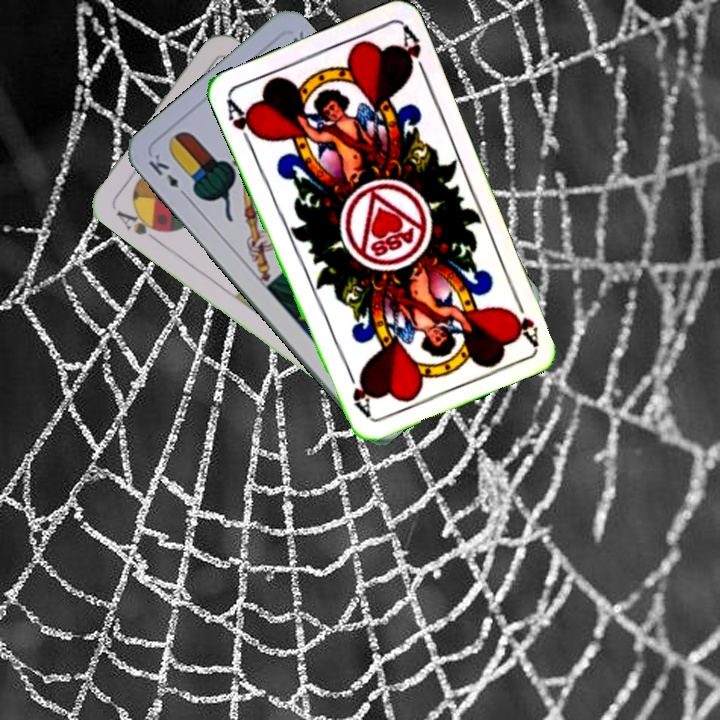EK: (144, 149, 191, 201)
HA: (222, 95, 263, 151), (506, 290, 541, 347)
SA: (112, 204, 166, 244)
